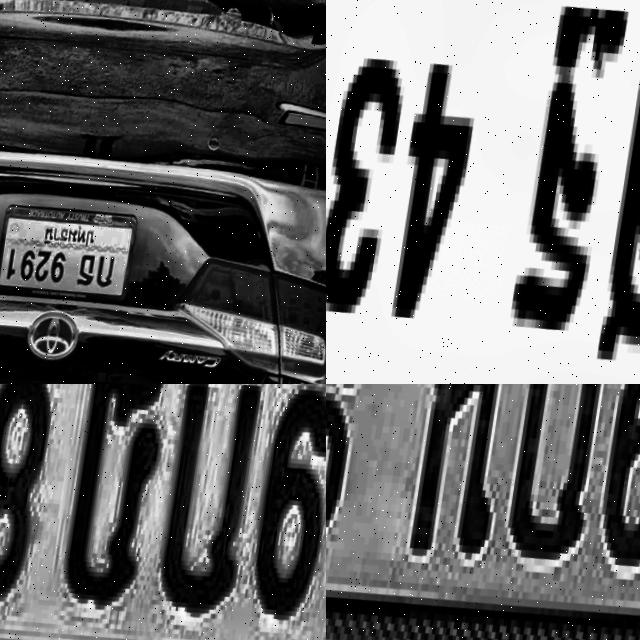license-plate: (326, 0, 640, 384), (0, 384, 326, 640), (326, 384, 640, 640), (0, 200, 139, 317)
